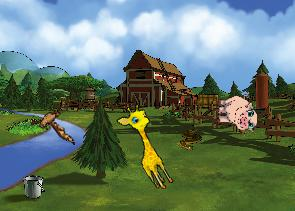eagle: (28, 103, 79, 145)
giraffe: (113, 100, 184, 193)
pig: (215, 94, 257, 132)
